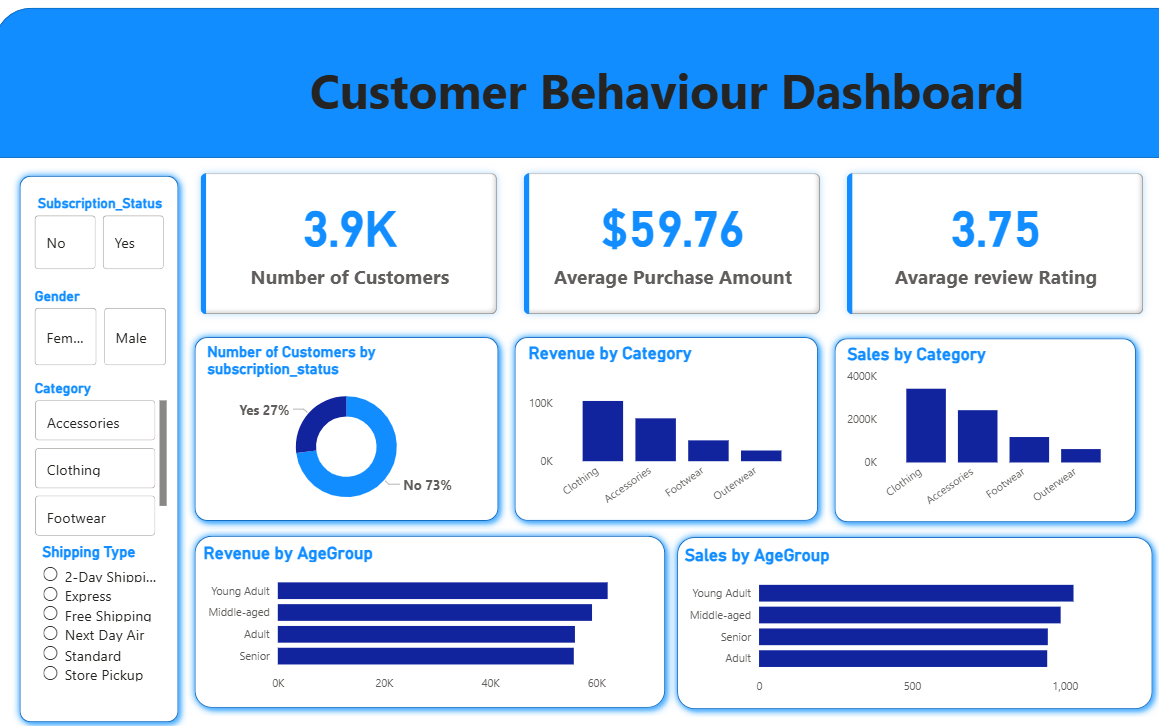

What the dashboard file says about the page in this screenshot:
{"tool":"powerbi","page":{"name":"Page 1","canvas":[1300,820],"ordinal":0},"visuals":[{"type":"cardVisual","fields":{"Data":["customer.Number of Customers","customer.Average Purchase Amount","customer.Avarage review Rating"]},"box":[214.5,183.8,1084.9,189.4],"z":0},{"type":"shape","box":[0,15.2,1499.7,167.4],"z":1000},{"type":"textbox","box":[0,65.9,1499.7,116.7],"z":2000},{"type":"shape","box":[214.5,373.2,356.5,222.8],"z":3000},{"type":"donutChart","fields":{"Y":["customer.Number of Customers"],"Category":["customer.subscription_status"]},"box":[232.6,388.6,320.3,193.6],"z":4000},{"type":"shape","box":[927.5,374.6,353.7,222.8],"z":5000},{"type":"shape","box":[571.5,373.7,356.1,222.7],"z":6000},{"type":"clusteredColumnChart","title":"Revenue by Category","fields":{"Y":["Sum(customer.purchase_amount)"],"Category":["customer.category"]},"box":[590.5,388.6,317.5,192.2],"z":7000},{"type":"clusteredColumnChart","title":"Sales by Category","fields":{"Y":["Sum(customer.customer_id)"],"Category":["customer.category"]},"box":[945.6,389.9,317.5,192.2],"z":8000},{"type":"shape","box":[19.5,193.6,195,626.7],"z":9000},{"type":"advancedSlicerVisual","title":"Subscription_Status","fields":{"Values":["customer.subscription_status"]},"box":[39.8,224.1,155.5,88.6],"z":10000},{"type":"advancedSlicerVisual","title":"Gender","fields":{"Values":["customer.gender"]},"box":[39.8,327.2,157.3,92.2],"z":11000},{"type":"advancedSlicerVisual","title":"Category","fields":{"Values":["customer.category"]},"box":[39.8,430.2,157.3,180.8],"z":12000},{"type":"listSlicer","title":"Shipping Type","fields":{"Values":["customer.shipping_type"]},"box":[48.8,611,139.2,209.7],"z":13000},{"type":"shape","box":[215.1,594.7,542.3,209.7],"z":14000},{"type":"clusteredBarChart","title":"Revenue by AgeGroup","fields":{"Y":["Sum(customer.purchase_amount)"],"Category":["customer.age_group"]},"box":[227.8,611,517,175.3],"z":15000},{"type":"shape","box":[752,596.5,547.7,209.7],"z":16000},{"type":"clusteredBarChart","title":"Sales by AgeGroup","fields":{"Y":["CountNonNull(customer.customer_id)"],"Category":["customer.age_group"]},"box":[764.6,614.6,517,175.3],"z":17000}]}

Visuals, with their boxes in screenshot pixels (x1, y1, x2, y2), scaled from the page's 1300x820 canvas onto the 1159x726 screenshot:
cardVisual - customer.Number of Customers x customer.Average Purchase Amount: Rect(191, 163, 1158, 330)
shape: Rect(0, 13, 1158, 162)
textbox: Rect(0, 58, 1158, 162)
shape: Rect(191, 330, 509, 528)
donutChart - customer.Number of Customers x customer.subscription_status: Rect(207, 344, 493, 515)
shape: Rect(827, 332, 1142, 529)
shape: Rect(510, 331, 827, 528)
"Revenue by Category" clusteredColumnChart: Rect(526, 344, 810, 514)
"Sales by Category" clusteredColumnChart: Rect(843, 345, 1126, 515)
shape: Rect(17, 171, 191, 725)
"Subscription_Status" advancedSlicerVisual: Rect(35, 198, 174, 277)
"Gender" advancedSlicerVisual: Rect(35, 290, 176, 371)
"Category" advancedSlicerVisual: Rect(35, 381, 176, 541)
"Shipping Type" listSlicer: Rect(44, 541, 168, 725)
shape: Rect(192, 527, 675, 712)
"Revenue by AgeGroup" clusteredBarChart: Rect(203, 541, 664, 696)
shape: Rect(670, 528, 1158, 714)
"Sales by AgeGroup" clusteredBarChart: Rect(682, 544, 1143, 699)
